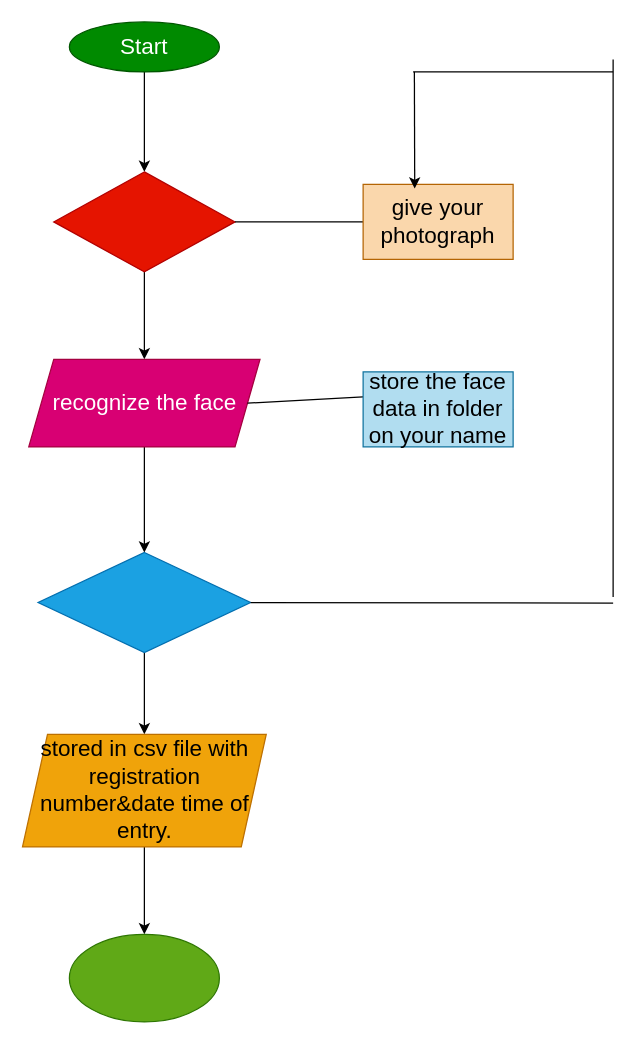
Some shapes in this 636 by 1054 pixel diagram are drawn without their labels. Each missing label, with the box of its shape:
End: (68, 933, 219, 1022)
face recognize: (37, 551, 251, 652)
new user?: (52, 171, 235, 272)
